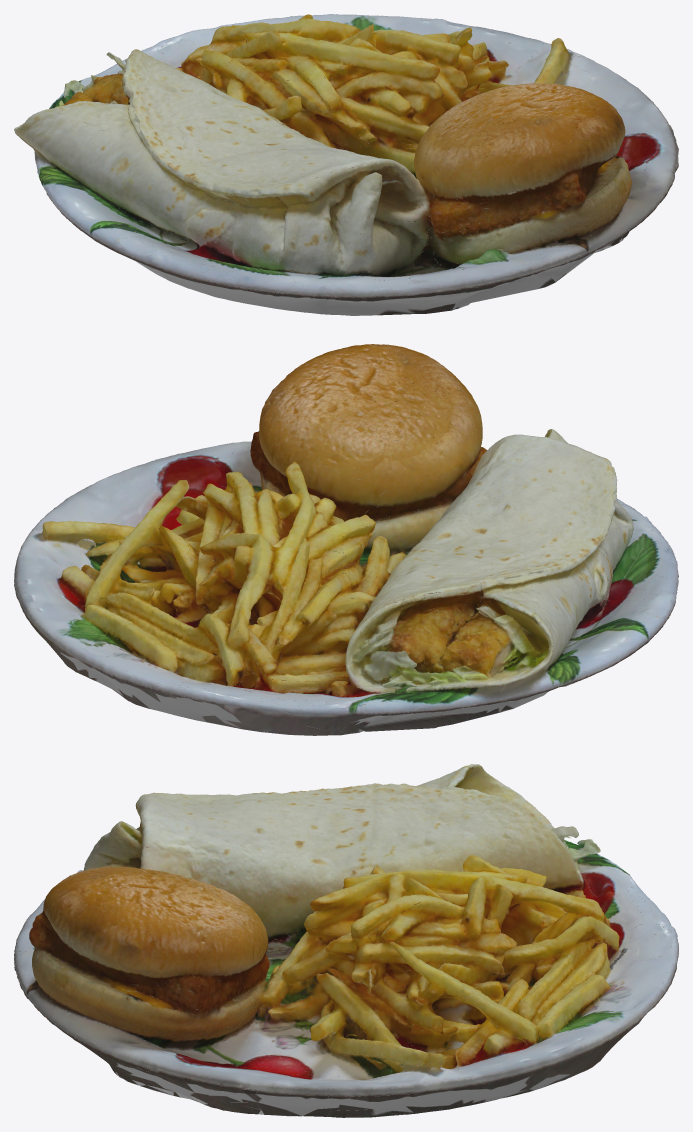
The model's file is mcdonalds.glb.
3 renders of one model, top to bottom at view 1: azimuth 30°, elevation 25°; view 2: azimuth 150°, elevation 25°; view 3: azimuth 270°, elevation 25°, orthographic. The views are drawn at different scales.
Parts seen in each view (by area): view 1: Object_3, Object_2; view 2: Object_3, Object_2; view 3: Object_3, Object_2.
Boxes of the visible parts, <box> form: Object_3: <box>14,14,678,302</box>; Object_2: <box>14,17,678,315</box>; Object_3: <box>14,344,678,735</box>; Object_2: <box>20,344,678,735</box>; Object_3: <box>14,764,678,1117</box>; Object_2: <box>14,764,678,1117</box>.
Size of the model in its own units: 29.89 by 7.85 by 29.93.
1 material, 1 textured.
